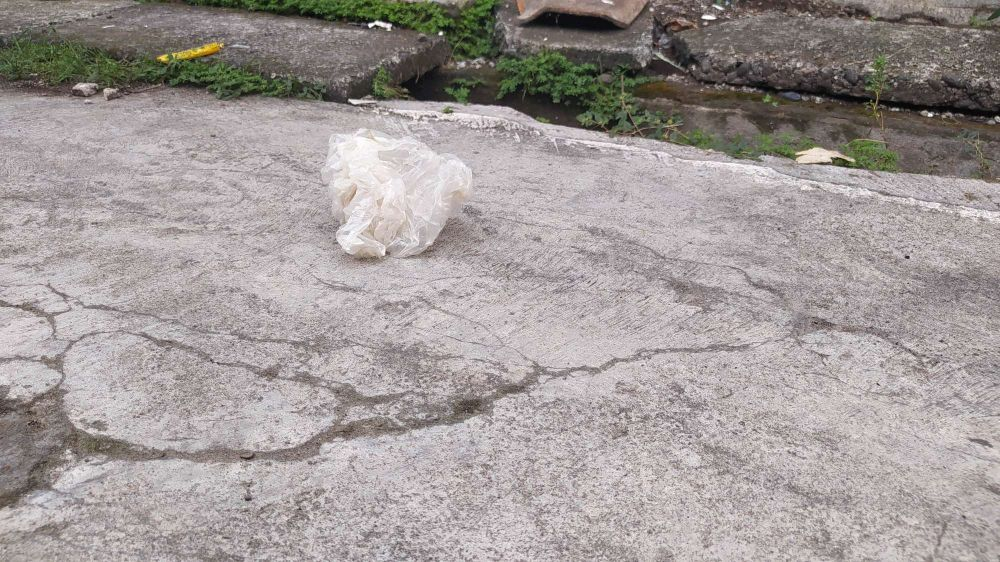plastik: (304, 125, 481, 266)
